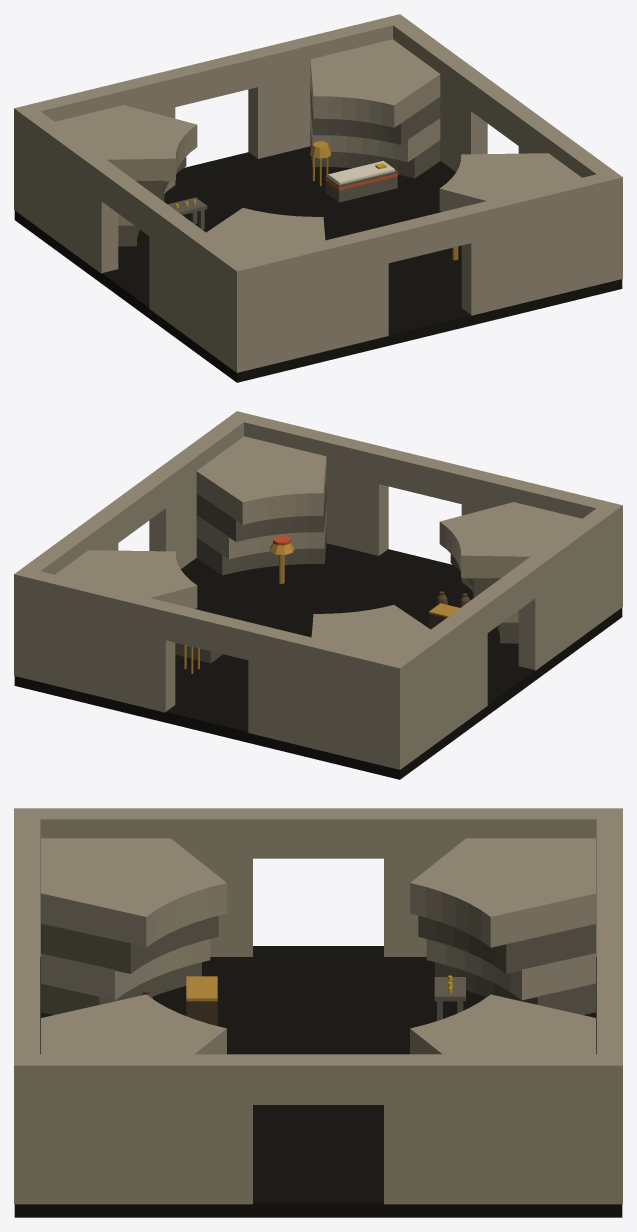
File: BronzeTholos.fbx
The picture shows the model from 3 angles, top to bottom: view 1: azimuth 30°, elevation 25°; view 2: azimuth 150°, elevation 25°; view 3: azimuth 270°, elevation 25°; orthographic projection. The views are drawn at different scales.
Visible parts, largest first — view 1: BronzeTholos; view 2: BronzeTholos; view 3: BronzeTholos.
Part boxes in pixels (bbox=[...]): BronzeTholos: bbox=[14, 14, 622, 382]; BronzeTholos: bbox=[14, 411, 622, 779]; BronzeTholos: bbox=[14, 808, 622, 1217].
Bounding box in the file's own units: 1202 × 332 × 1202.
9 materials, 9 textured.
